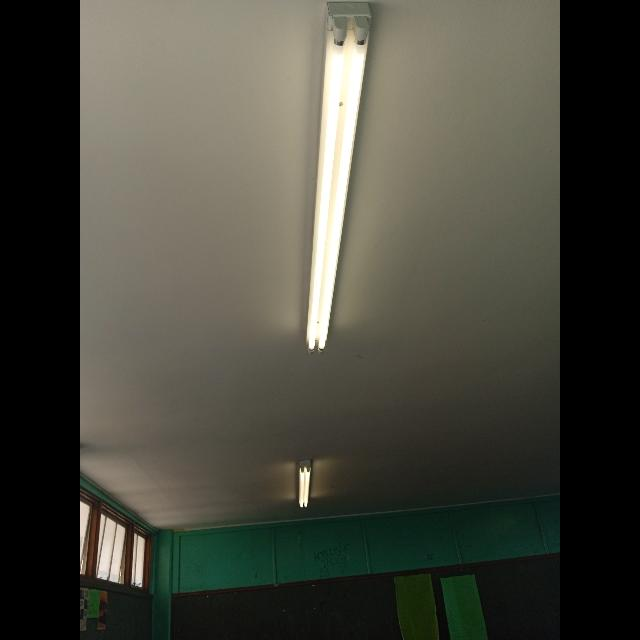Straight-Tube-Fluorescent-Lamp: (300, 1, 380, 366), (293, 451, 317, 521)
